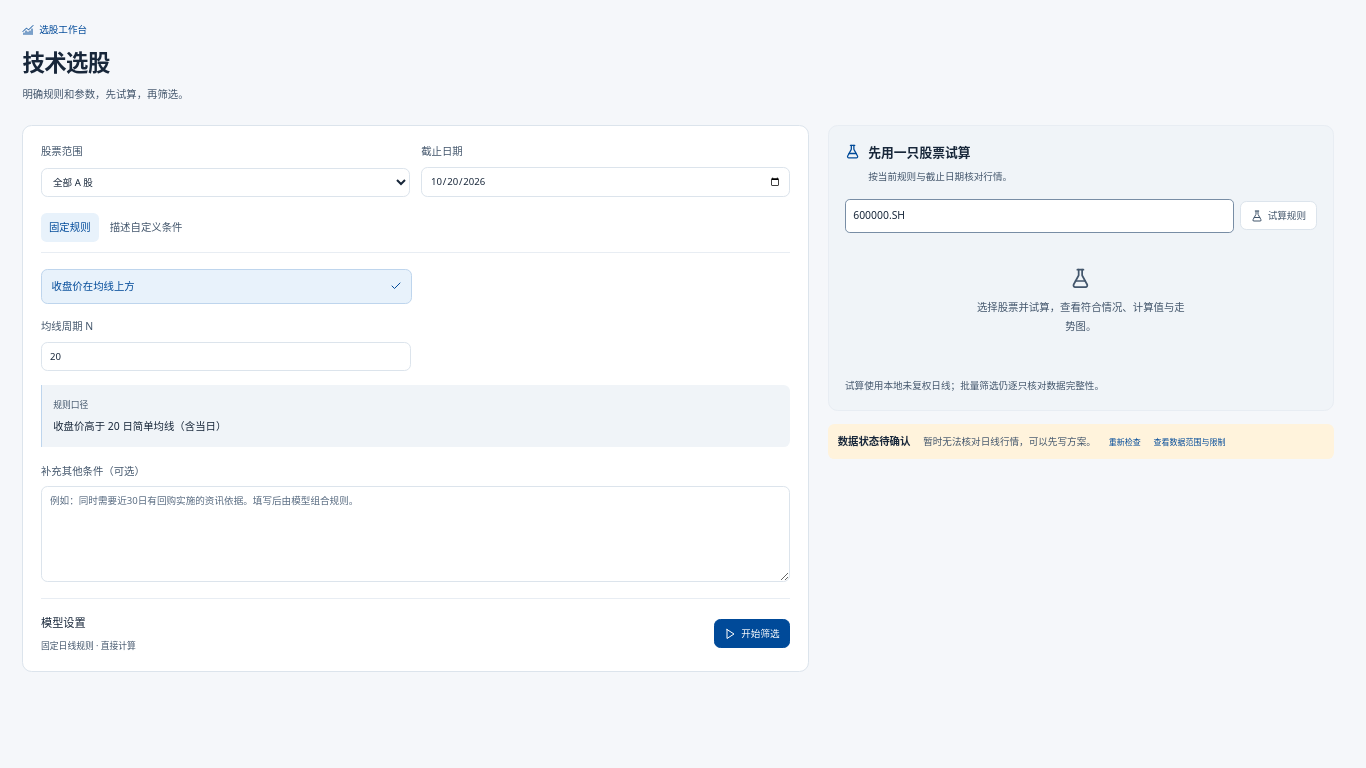
Test: blocks invalid rule values and future cutoffs before starting a run
The width and height of the screenshot is (1366, 768).
Clear the number field labelled "均线周期 N" at point(226, 356), box top-left (41, 342), bottom-right (411, 371)
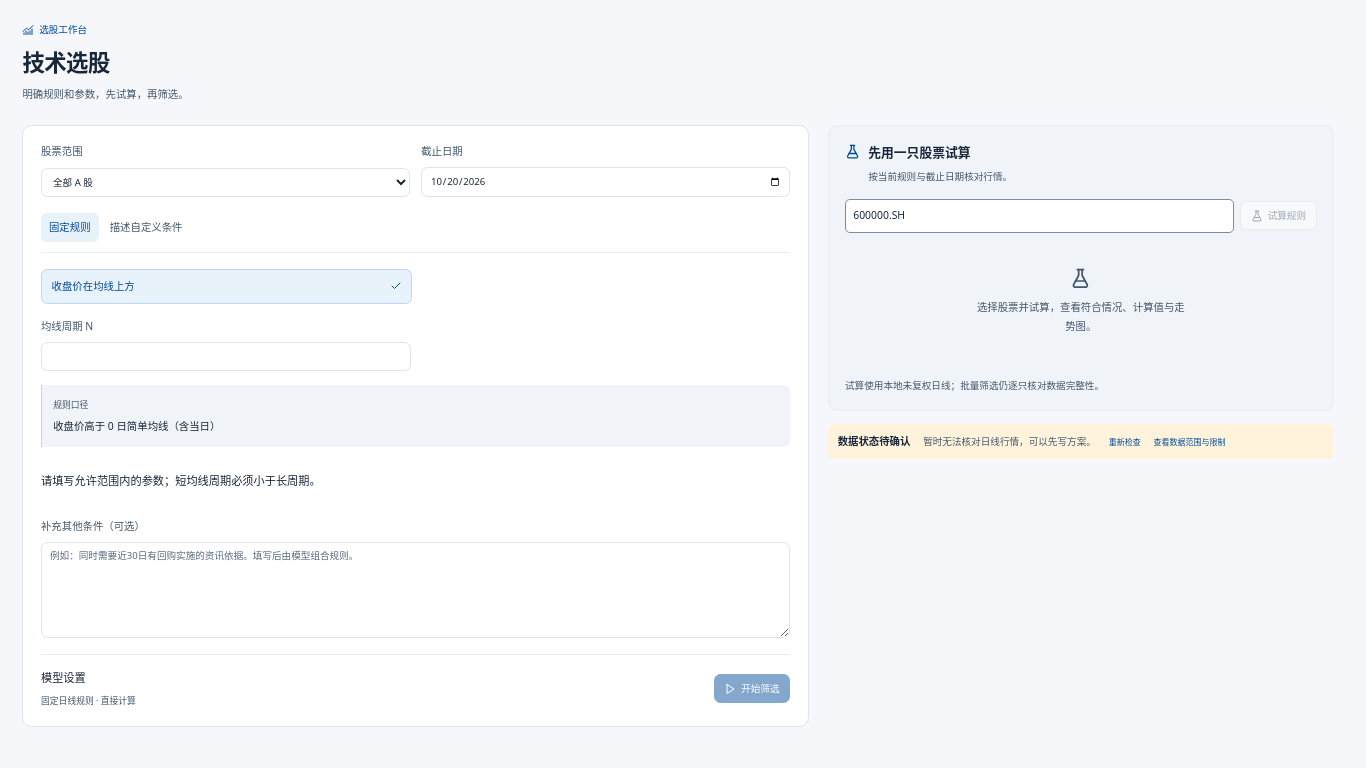
Now the button "开始筛选" is disabled, box top-left (714, 674), bottom-right (790, 703)
Type "20" into the number field labelled "均线周期 N".
click(226, 356); type("20")  # box top-left (41, 342), bottom-right (411, 371)
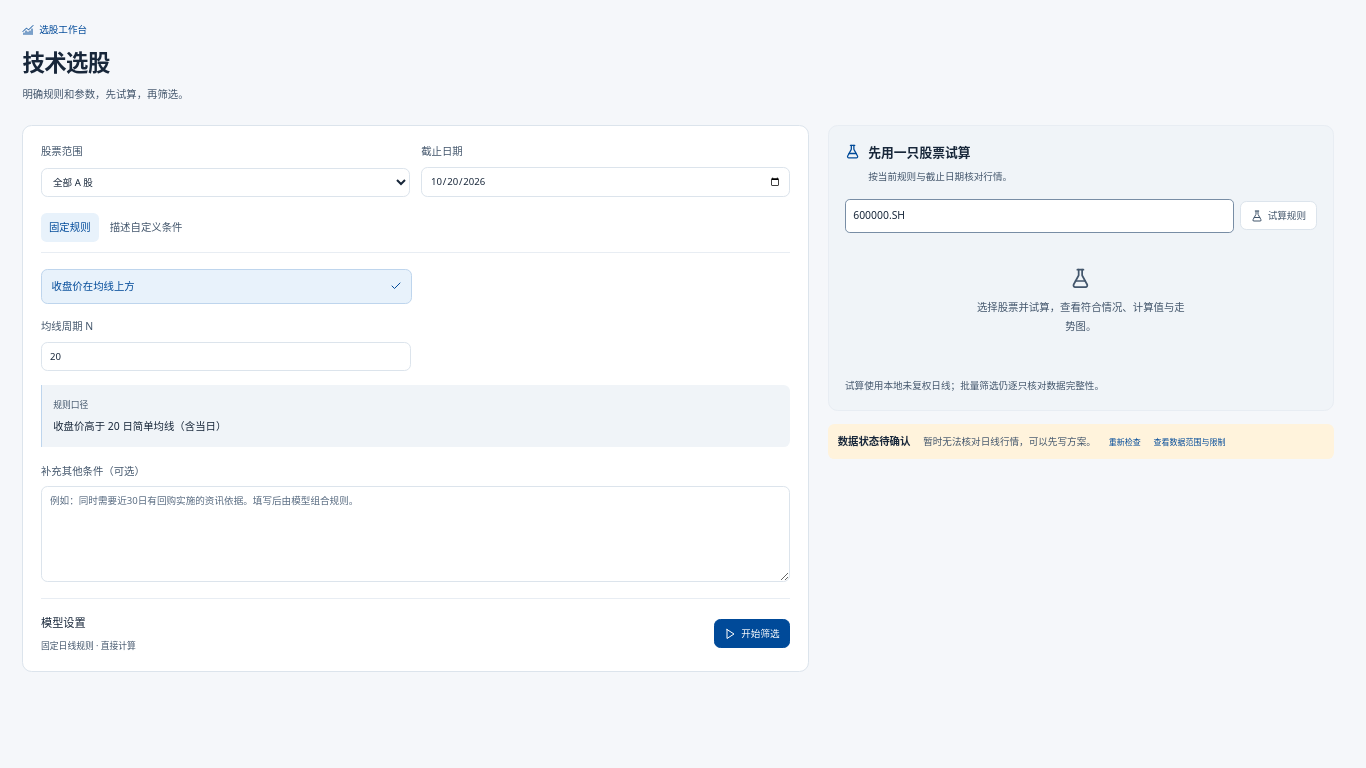
Type "2026-10-21" into the date field named "选股截止日期".
click(606, 182); type("2026-10-21")  # box top-left (421, 167), bottom-right (790, 197)
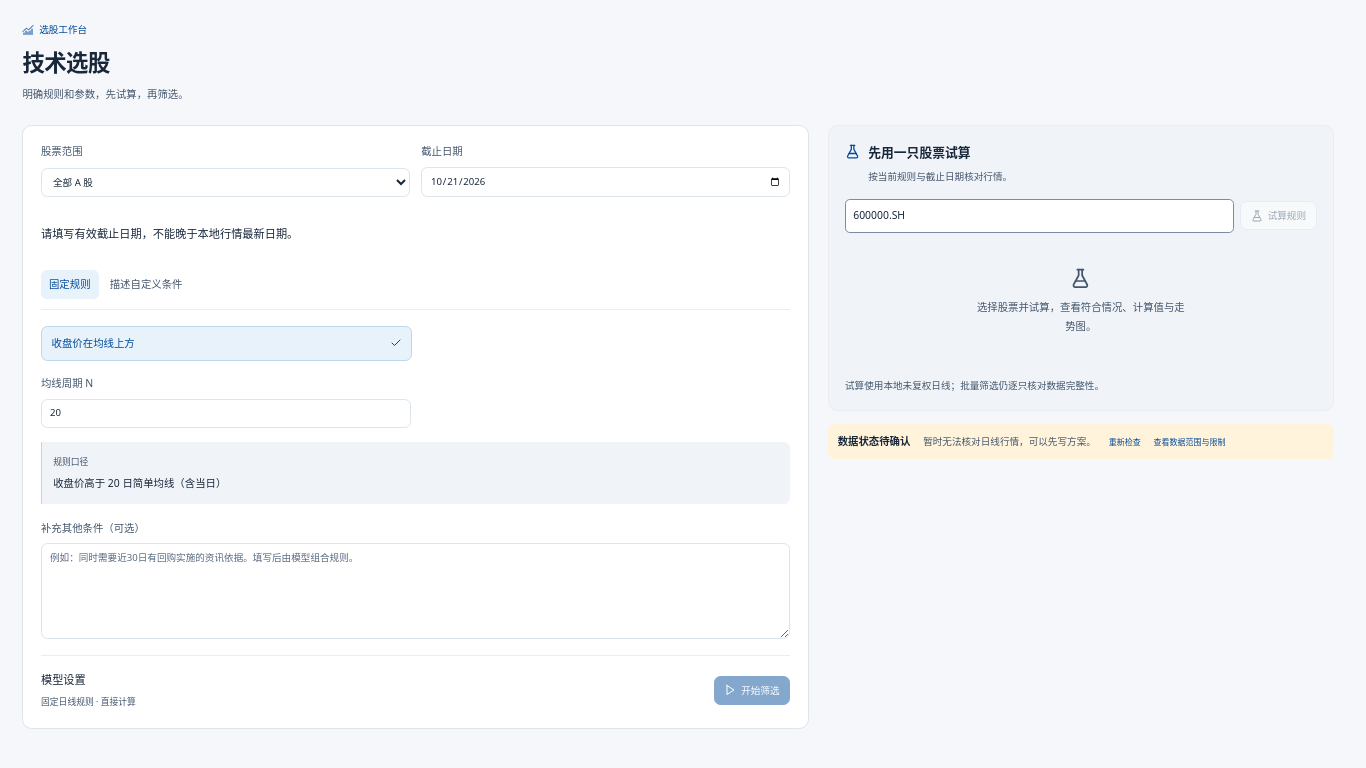
Now the button "开始筛选" is disabled, box top-left (714, 676), bottom-right (790, 705)
